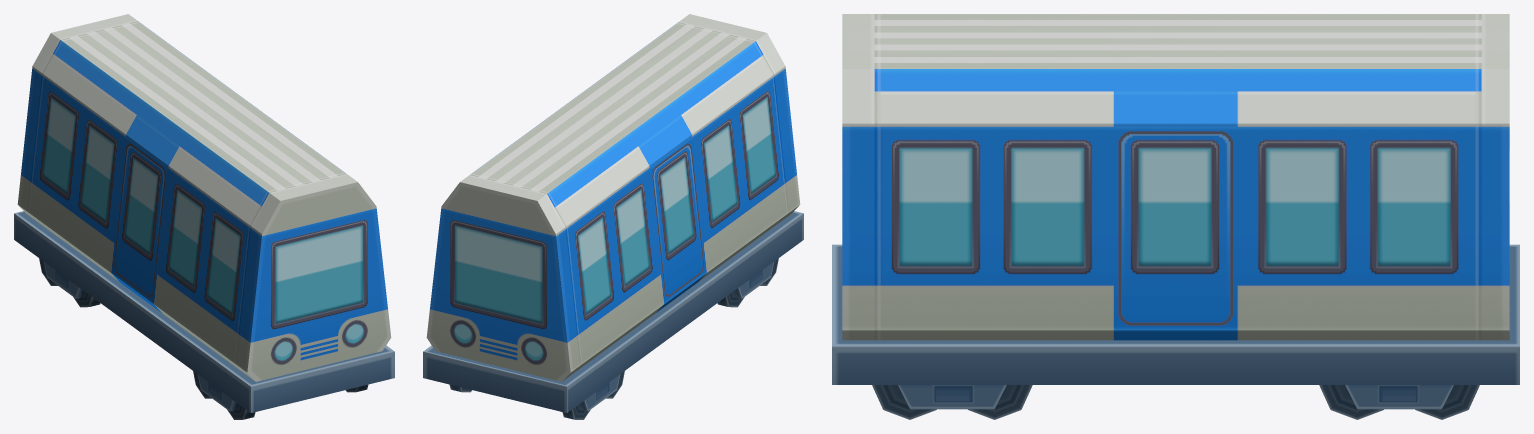
Rendered from Train03.FBX.
3 renders of one model, left to right at view 1: azimuth 30°, elevation 25°; view 2: azimuth 150°, elevation 25°; view 3: azimuth 270°, elevation 25°, orthographic. The views are drawn at different scales.
Visible parts, largest first — view 1: Train03, Wheel; view 2: Train03, Wheel; view 3: Train03, Wheel.
Boxes of the visible parts, box(x1,y1,x2,y2) form: Train03: box(17, 14, 391, 381); Wheel: box(14, 211, 394, 419); Train03: box(426, 14, 800, 381); Wheel: box(423, 211, 803, 419); Train03: box(842, 14, 1509, 340); Wheel: box(832, 244, 1519, 419).
Bounding box in the file's own units: 200 × 306 × 570.
